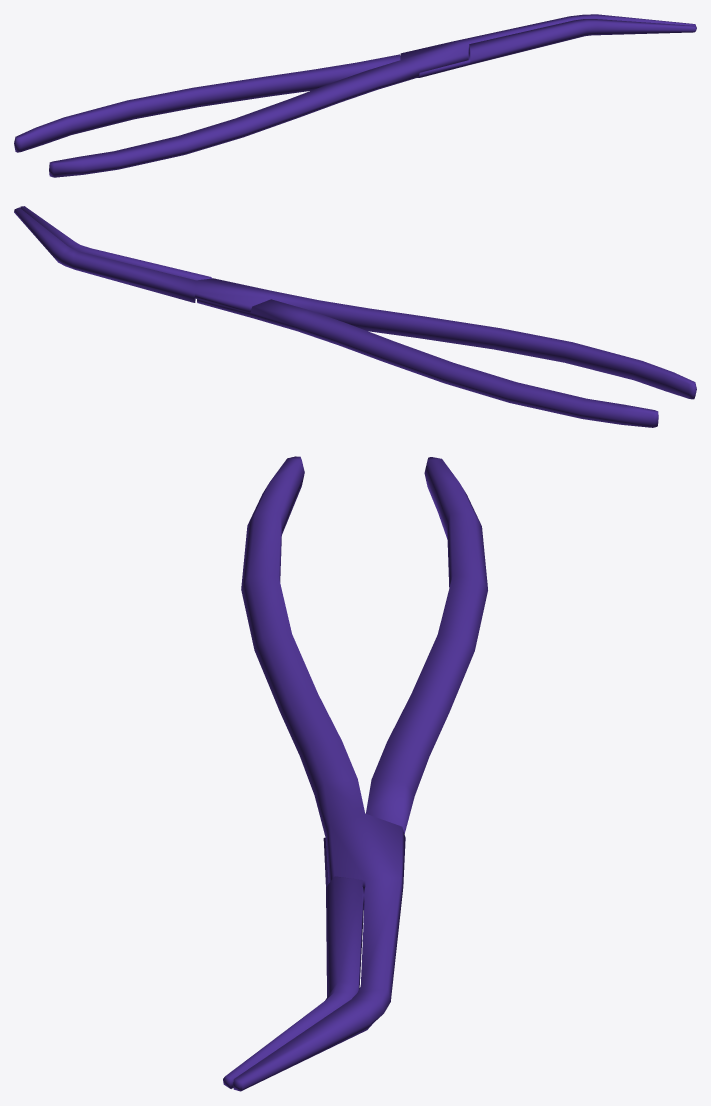
File: SM_Morgue_Scissors_9.FBX
The picture shows the model from 3 angles, top to bottom: view 1: azimuth 30°, elevation 25°; view 2: azimuth 150°, elevation 25°; view 3: azimuth 270°, elevation 25°; orthographic projection. The views are drawn at different scales.
Visible parts, largest first — view 1: Morgue_Scissors_9_element_1, Morgue_Scissors_9_element_2; view 2: Morgue_Scissors_9_element_2, Morgue_Scissors_9_element_1; view 3: Morgue_Scissors_9_element_2, Morgue_Scissors_9_element_1.
Boxes of the visible parts, x1=… form: Morgue_Scissors_9_element_1: x1=14, y1=19, x2=696, y2=152; Morgue_Scissors_9_element_2: x1=49, y1=14, x2=695, y2=177; Morgue_Scissors_9_element_2: x1=14, y1=207, x2=696, y2=399; Morgue_Scissors_9_element_1: x1=20, y1=206, x2=658, y2=427; Morgue_Scissors_9_element_2: x1=233, y1=456, x2=405, y2=1091; Morgue_Scissors_9_element_1: x1=223, y1=457, x2=487, y2=1088.
Bounding box in the file's own units: 20.75 × 0.4837 × 3.76.
